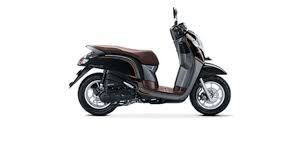motor: (70, 21, 231, 116)
